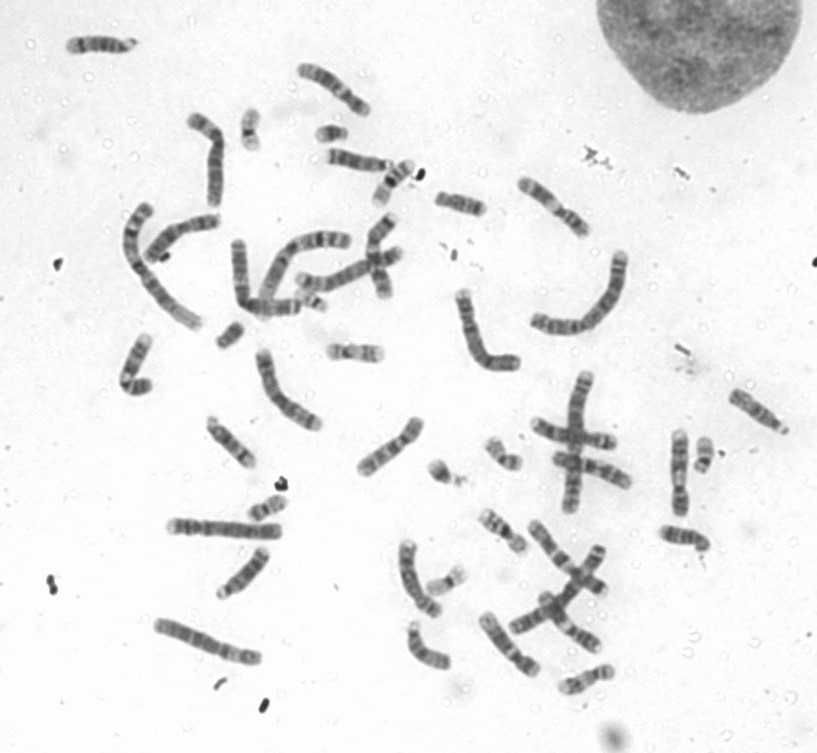chromosomes: (120, 197, 210, 333), (500, 542, 610, 637), (528, 248, 636, 339), (256, 227, 355, 307), (151, 609, 271, 671), (524, 516, 607, 602), (253, 345, 328, 435), (455, 286, 525, 377), (558, 371, 601, 517), (230, 238, 304, 320), (293, 244, 406, 291), (516, 173, 592, 241), (345, 416, 428, 477), (477, 606, 545, 679), (300, 59, 378, 121), (540, 588, 609, 658), (140, 214, 225, 269), (185, 111, 231, 210), (396, 539, 448, 620), (549, 448, 636, 494), (723, 389, 797, 442), (214, 542, 276, 605), (526, 412, 619, 454), (204, 411, 262, 472), (364, 210, 399, 307), (165, 518, 287, 545), (476, 503, 532, 557), (119, 331, 162, 400), (405, 618, 453, 673), (370, 158, 418, 210), (552, 661, 619, 697), (66, 30, 144, 59), (669, 427, 693, 519), (653, 521, 714, 557), (321, 146, 397, 174), (422, 562, 472, 599), (435, 188, 491, 221), (424, 454, 472, 491), (323, 341, 387, 368), (483, 433, 526, 472), (244, 493, 293, 524), (240, 107, 268, 153), (292, 287, 332, 315), (216, 319, 250, 350), (694, 436, 718, 477), (313, 123, 351, 148)
